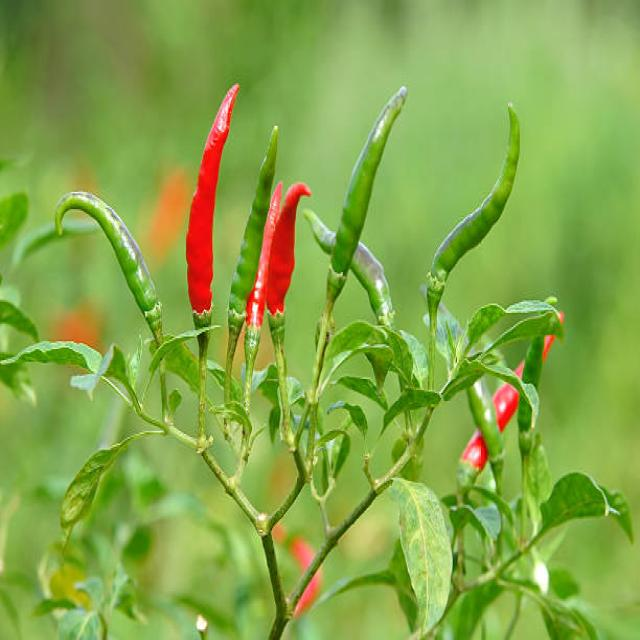Ripe: (186, 85, 239, 319), (267, 184, 308, 314), (247, 182, 280, 326)
Unripe: (320, 88, 407, 357), (420, 104, 521, 327), (53, 190, 166, 344), (226, 126, 278, 377), (300, 203, 393, 324)
